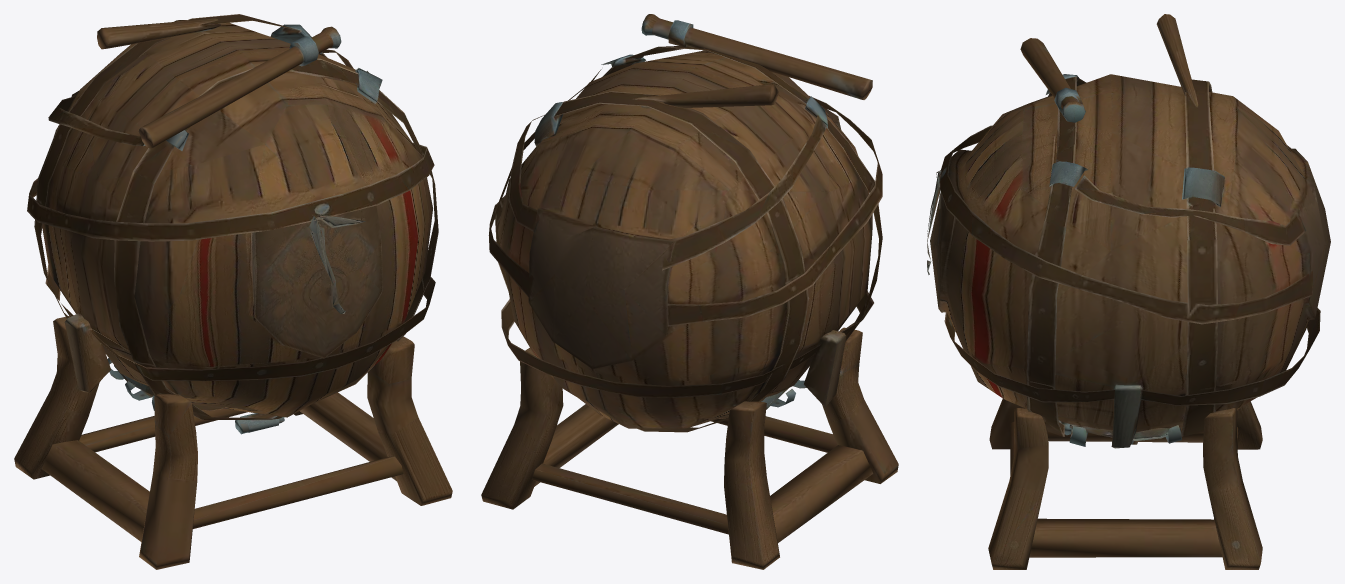
The model's file is warDrum.glb.
3 renders of one model, left to right at view 1: azimuth 30°, elevation 25°; view 2: azimuth 150°, elevation 25°; view 3: azimuth 270°, elevation 25°, orthographic. The views are drawn at different scales.
Size of the model in its own units: 0.7061 by 0.9526 by 0.7954.
1 material, 1 textured.
